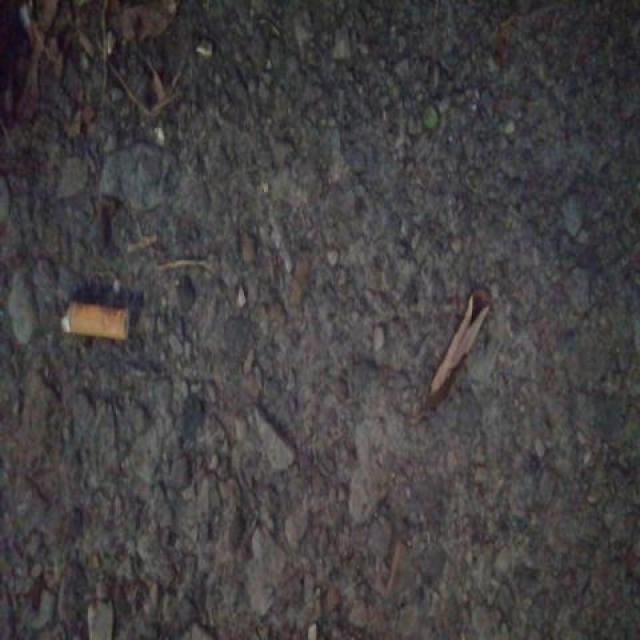non-organic waste: (58, 294, 134, 346)
